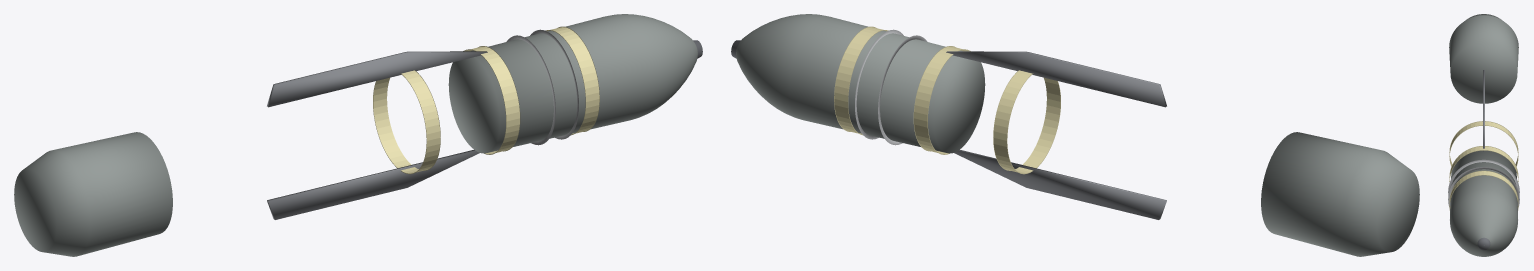
File: UK_SLBM_Polaris_A3TK_LOD0.fbx
The picture shows the model from 3 angles, left to right: view 1: azimuth 30°, elevation 25°; view 2: azimuth 150°, elevation 25°; view 3: azimuth 270°, elevation 25°; orthographic projection. The views are drawn at different scales.
Visible parts, largest first — view 1: WPN_UK_SLBM_Polaris_A3TK_LOD0_Body, WPN_UK_SLBM_Polaris_A3TK_LOD0_Tail, WPN_UK_SLBM_Polaris_A3TK_LOD0_Detail, WPN_UK_SLBM_Polaris_A3TK_LOD0_Marking; view 2: WPN_UK_SLBM_Polaris_A3TK_LOD0_Body, WPN_UK_SLBM_Polaris_A3TK_LOD0_Tail, WPN_UK_SLBM_Polaris_A3TK_LOD0_Detail, WPN_UK_SLBM_Polaris_A3TK_LOD0_Marking; view 3: WPN_UK_SLBM_Polaris_A3TK_LOD0_Body, WPN_UK_SLBM_Polaris_A3TK_LOD0_Tail, WPN_UK_SLBM_Polaris_A3TK_LOD0_Marking, WPN_UK_SLBM_Polaris_A3TK_LOD0_Detail, WPN_UK_SLBM_Polaris_A3TK_LOD0_Nose.
Boxes of the visible parts, x1,y1,x2,y2 form: WPN_UK_SLBM_Polaris_A3TK_LOD0_Body: (448,14,697,153); WPN_UK_SLBM_Polaris_A3TK_LOD0_Tail: (14,132,172,256); WPN_UK_SLBM_Polaris_A3TK_LOD0_Detail: (267,29,578,219); WPN_UK_SLBM_Polaris_A3TK_LOD0_Marking: (373,26,599,174); WPN_UK_SLBM_Polaris_A3TK_LOD0_Body: (736,14,985,153); WPN_UK_SLBM_Polaris_A3TK_LOD0_Tail: (1261,132,1419,256); WPN_UK_SLBM_Polaris_A3TK_LOD0_Detail: (855,29,1166,219); WPN_UK_SLBM_Polaris_A3TK_LOD0_Marking: (834,26,1060,174); WPN_UK_SLBM_Polaris_A3TK_LOD0_Body: (1450,150,1517,256); WPN_UK_SLBM_Polaris_A3TK_LOD0_Tail: (1449,14,1518,103); WPN_UK_SLBM_Polaris_A3TK_LOD0_Marking: (1449,121,1518,210); WPN_UK_SLBM_Polaris_A3TK_LOD0_Detail: (1448,70,1519,207); WPN_UK_SLBM_Polaris_A3TK_LOD0_Nose: (1477,237,1490,250).
Size of the model in its own units: 9.8 by 1.44 by 1.9.
